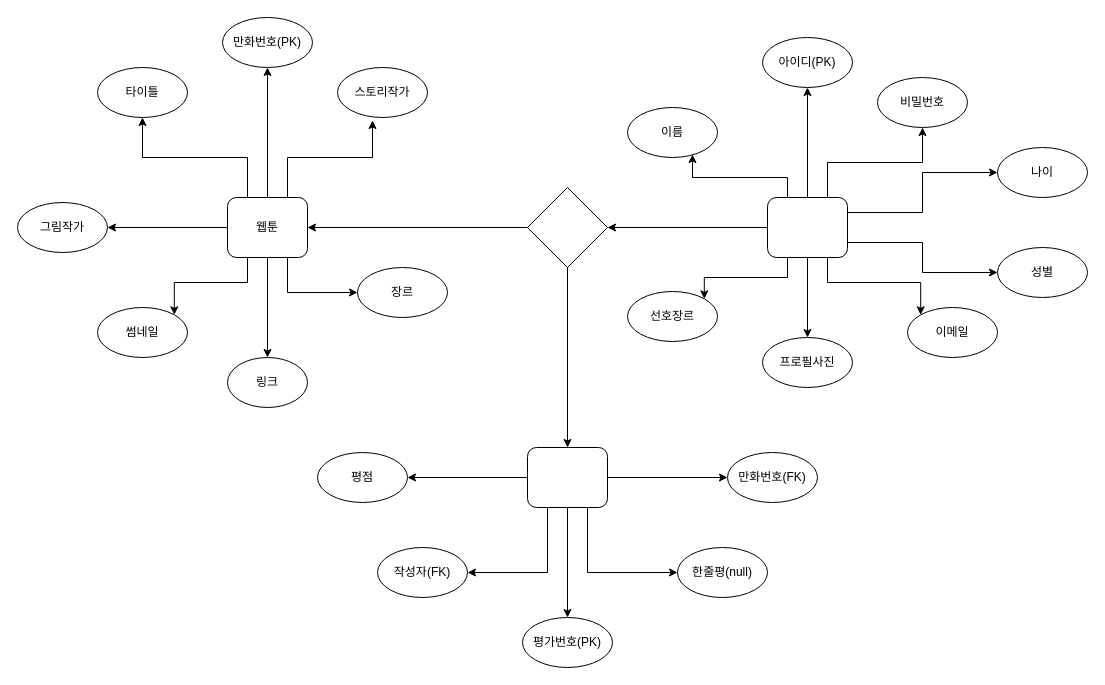
The diagram is 1105 pixels wide and 685 high, and some of its shapes have lost their labels. The centre of each missing label's shape, as x and y in pixels:
댓글: (x=567, y=477)
유저: (x=807, y=227)
평가: (x=567, y=227)
